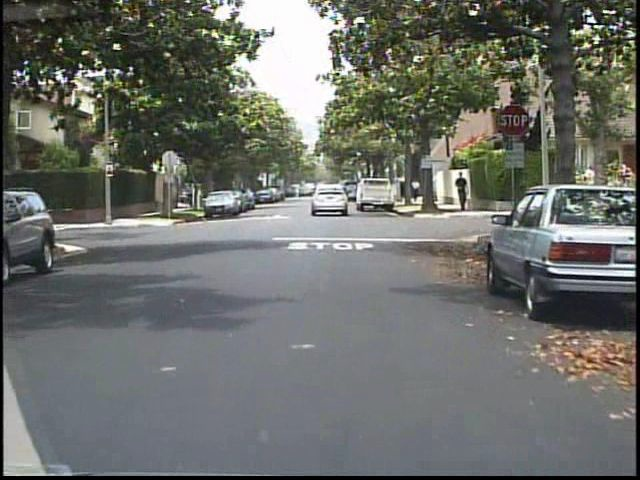person: (453, 169, 474, 216), (181, 178, 197, 208), (411, 175, 423, 204)
